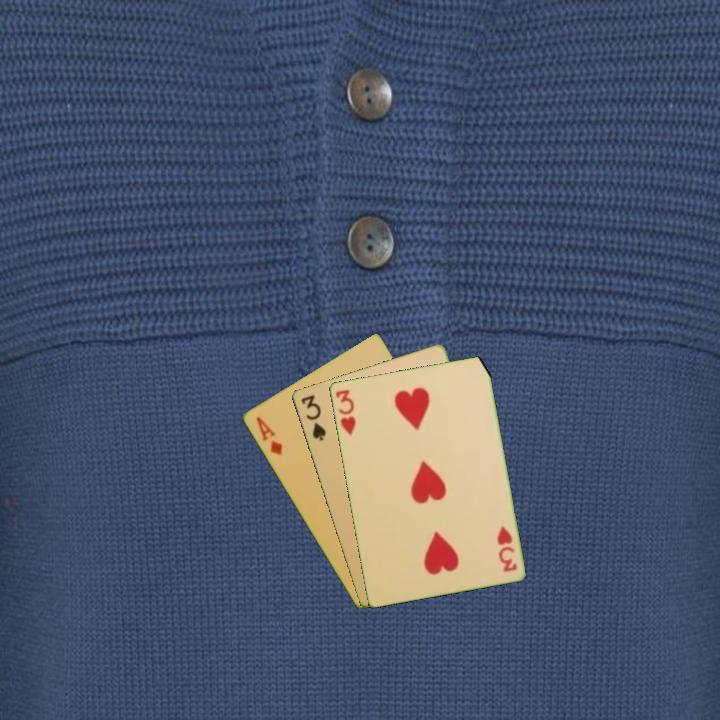3h: (493, 522, 519, 575), (332, 386, 358, 438)
3s: (297, 391, 329, 443)
Ad: (252, 413, 285, 458)
